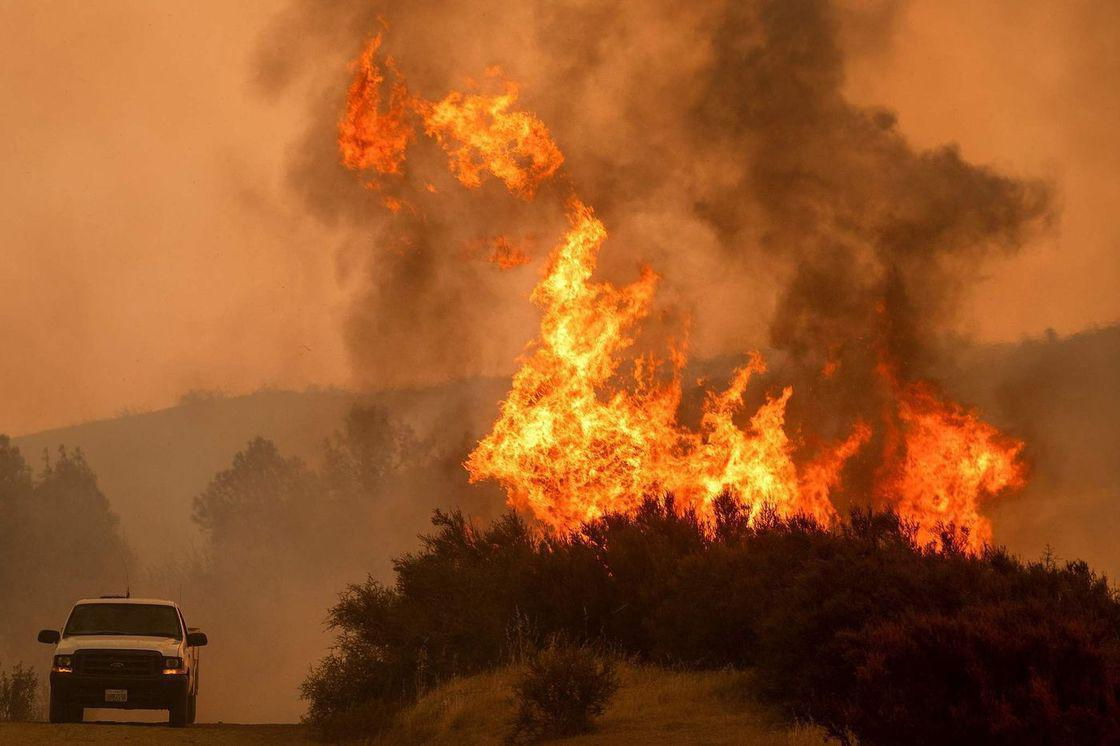Fire: (336, 13, 853, 532), (872, 392, 1020, 552)
